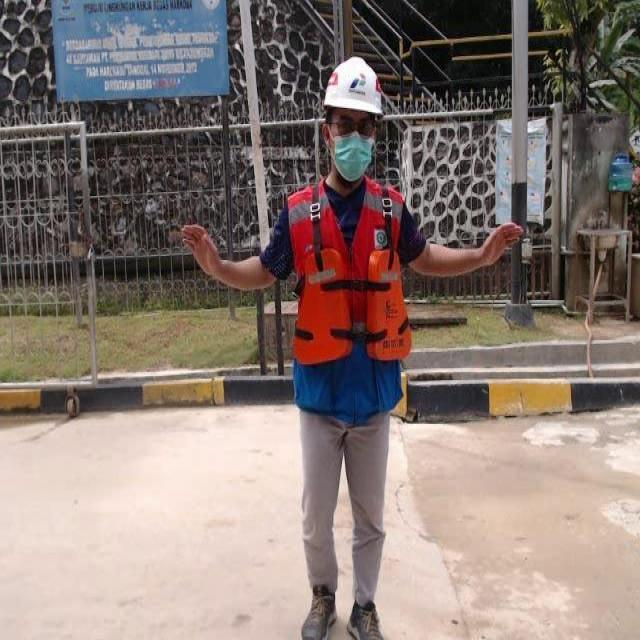Vest: (288, 244, 416, 368)
